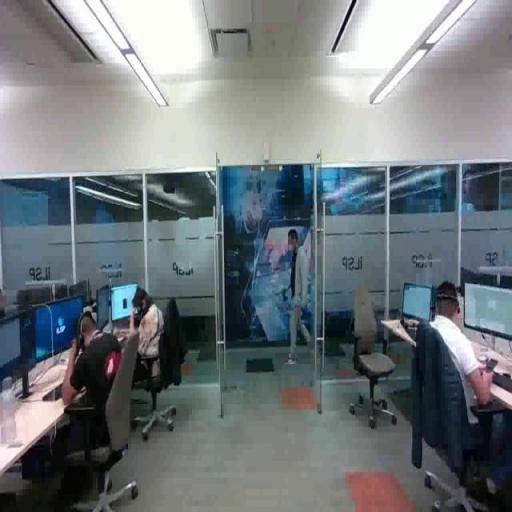person: (30, 305, 122, 482), (423, 284, 510, 468), (116, 285, 175, 400), (283, 229, 324, 375)
